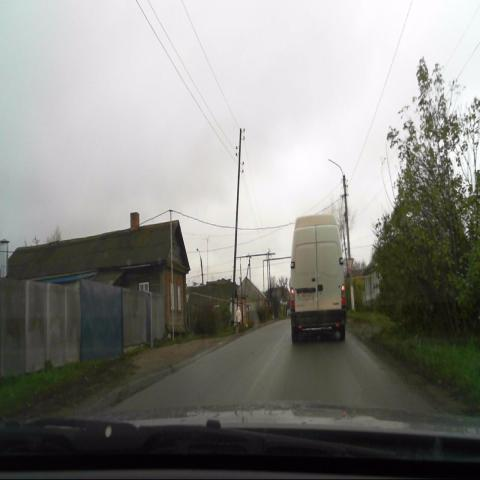2_4: (345, 257, 354, 272)
